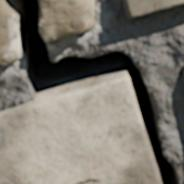brick: (0, 74, 160, 183), (124, 0, 183, 18)
broken_brick: (40, 0, 95, 43), (0, 0, 23, 68)
crack: (1, 0, 183, 183), (76, 179, 101, 183)
